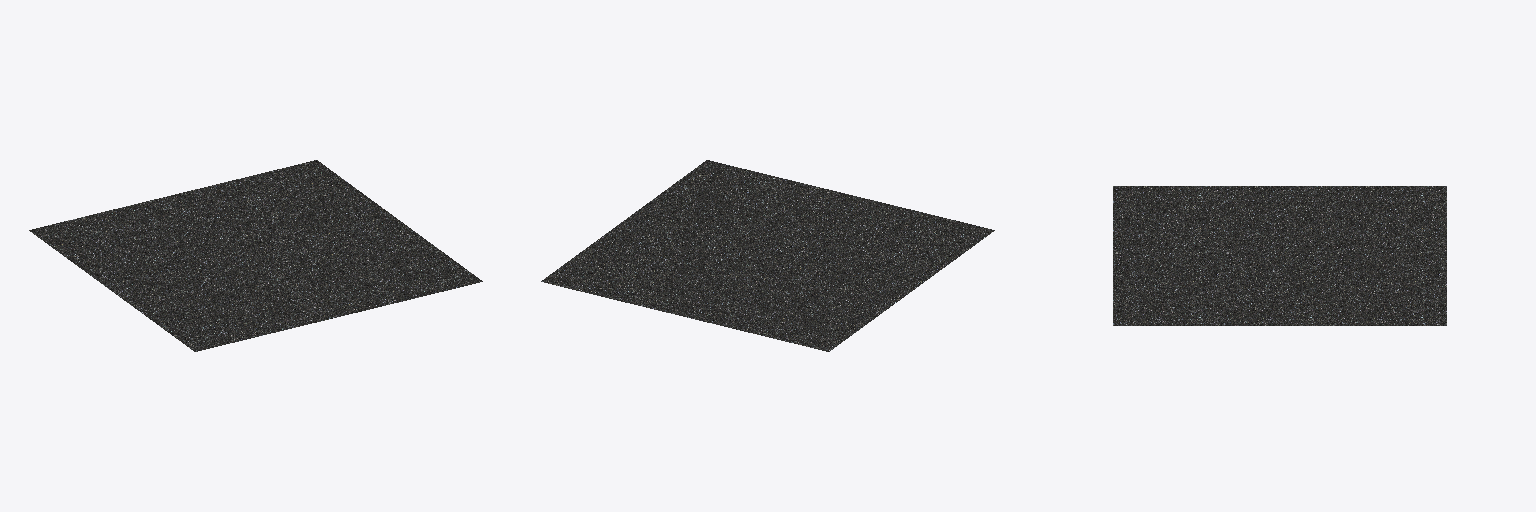
The picture shows the model from 3 angles: view 1: azimuth 30°, elevation 25°; view 2: azimuth 150°, elevation 25°; view 3: azimuth 270°, elevation 25°; orthographic projection.
Parts seen in each view (by area): view 1: Plane; view 2: Plane; view 3: Plane.
Part boxes in pixels (x1,y1,x2,y2): Plane: (29, 160, 482, 351); Plane: (541, 160, 994, 351); Plane: (1113, 186, 1446, 325).
Size of the model in its own units: 40 by 0 by 40.
Materials: 1 (1 with a texture image).